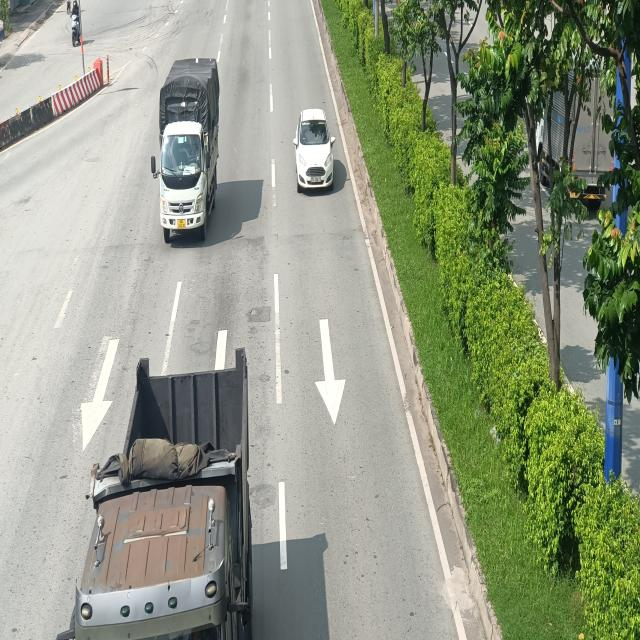car: (293, 109, 336, 191)
container: (72, 350, 254, 636)
truck: (150, 58, 220, 244)
